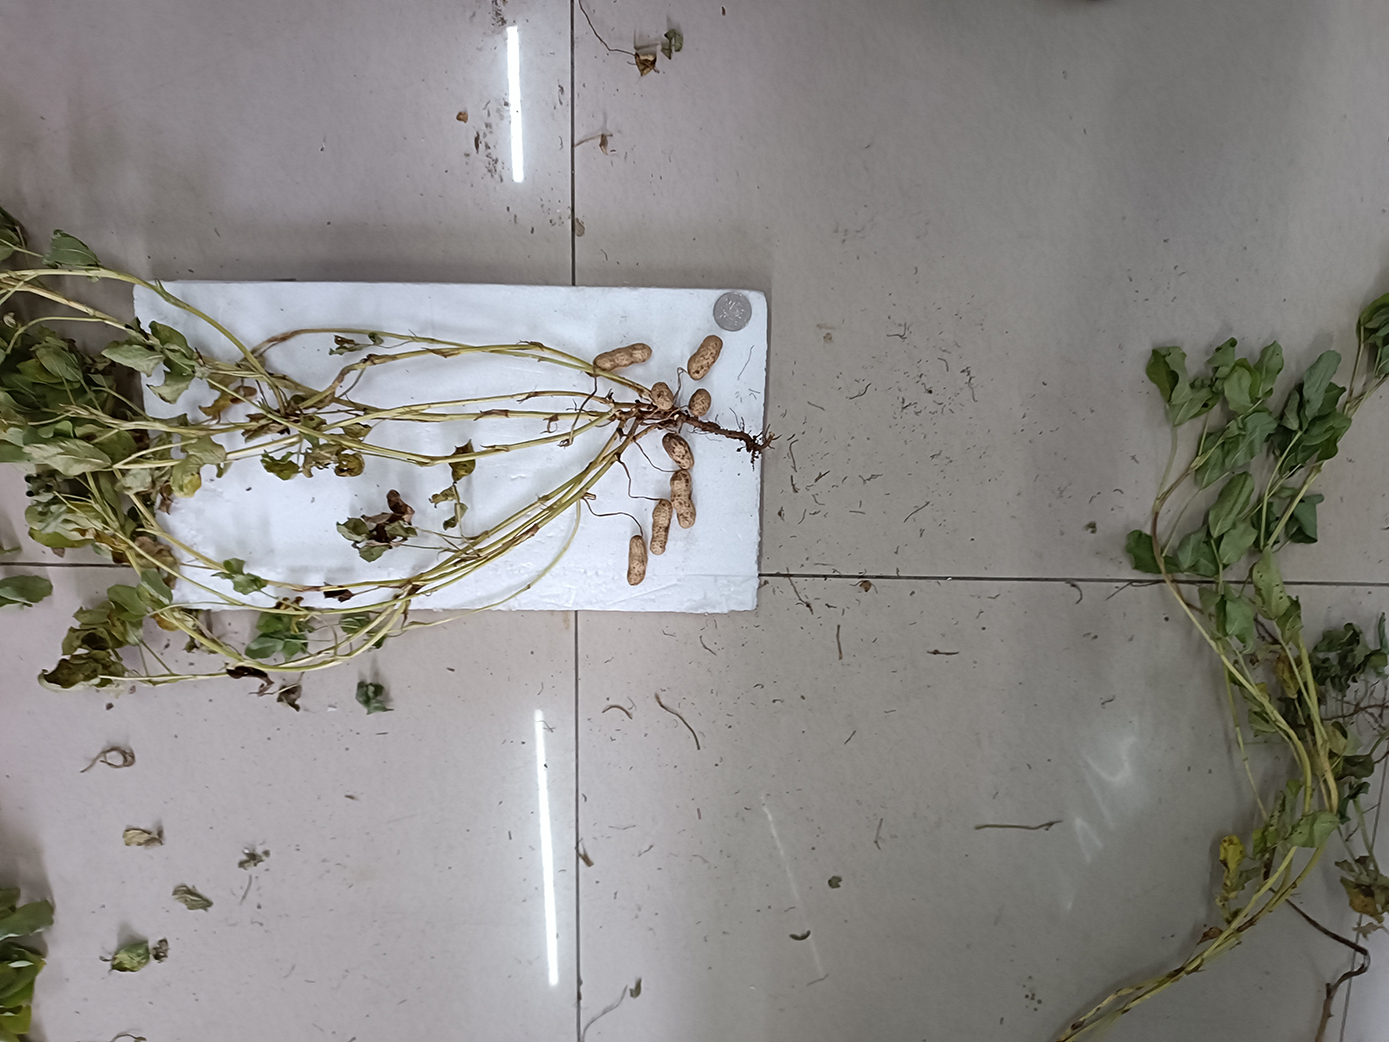h: (591, 343, 653, 371), (688, 335, 724, 380), (670, 473, 697, 529), (650, 499, 673, 555), (661, 432, 694, 471), (626, 536, 649, 586), (650, 382, 676, 410), (688, 387, 711, 416)
